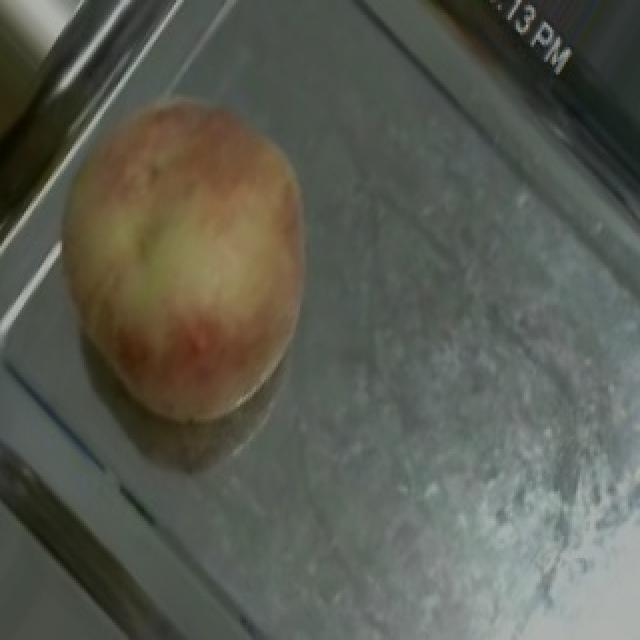Fruit: (16, 44, 360, 447)
